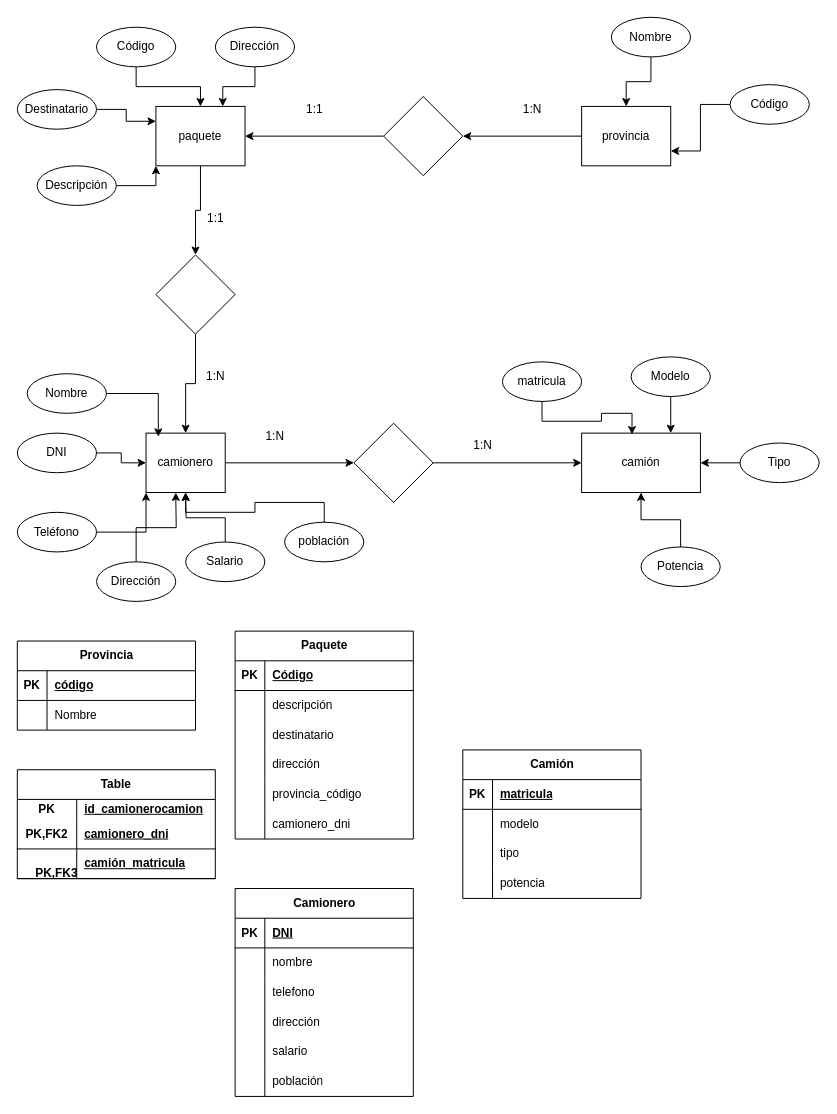
This 837x1114 diagram has some shape labels left out. The shapes that lost their labels are listed below. From the top down, each one's centre as x and y in pixels, then its label:
At [423,136]: "llega".
At [195,294]: "distribuye".
At [393,462]: "conduce".
